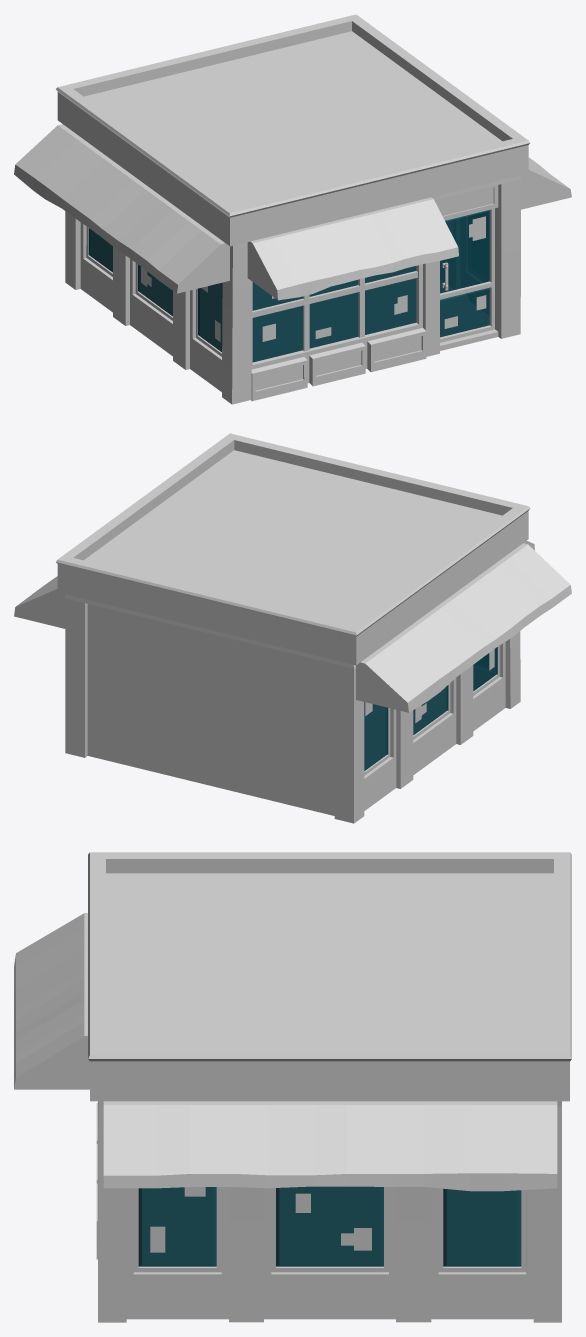
The model's file is shop_01_small.fbx.
The picture shows the model from 3 angles, top to bottom: view 1: azimuth 30°, elevation 25°; view 2: azimuth 150°, elevation 25°; view 3: azimuth 270°, elevation 25°; orthographic projection. The views are drawn at different scales.
Visible parts, largest first — view 1: shop_01, shop_01_glass; view 2: shop_01, shop_01_glass; view 3: shop_01, shop_01_glass.
Boxes of the visible parts, <box> form: shop_01: <box>14,14,571,404</box>; shop_01_glass: <box>88,210,489,362</box>; shop_01: <box>14,433,571,823</box>; shop_01_glass: <box>364,647,497,770</box>; shop_01: <box>14,852,571,1322</box>; shop_01_glass: <box>138,1186,521,1266</box>.
Bounding box in the file's own units: 850 × 402 × 747.
